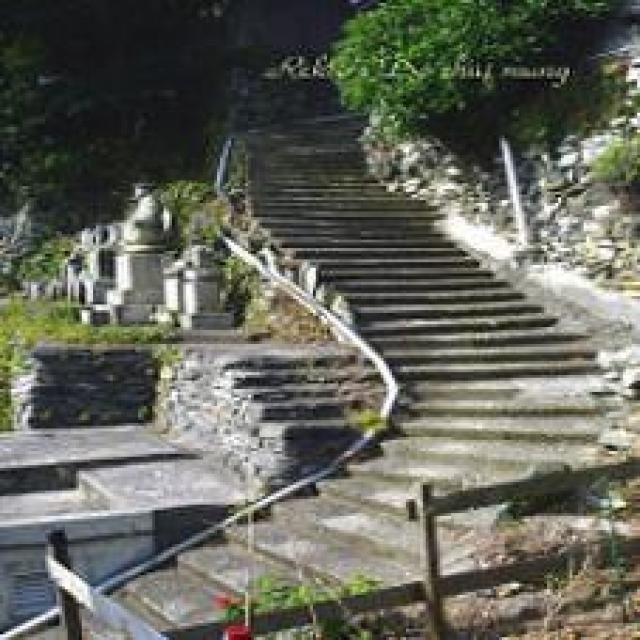upstair: (244, 179, 605, 407)
